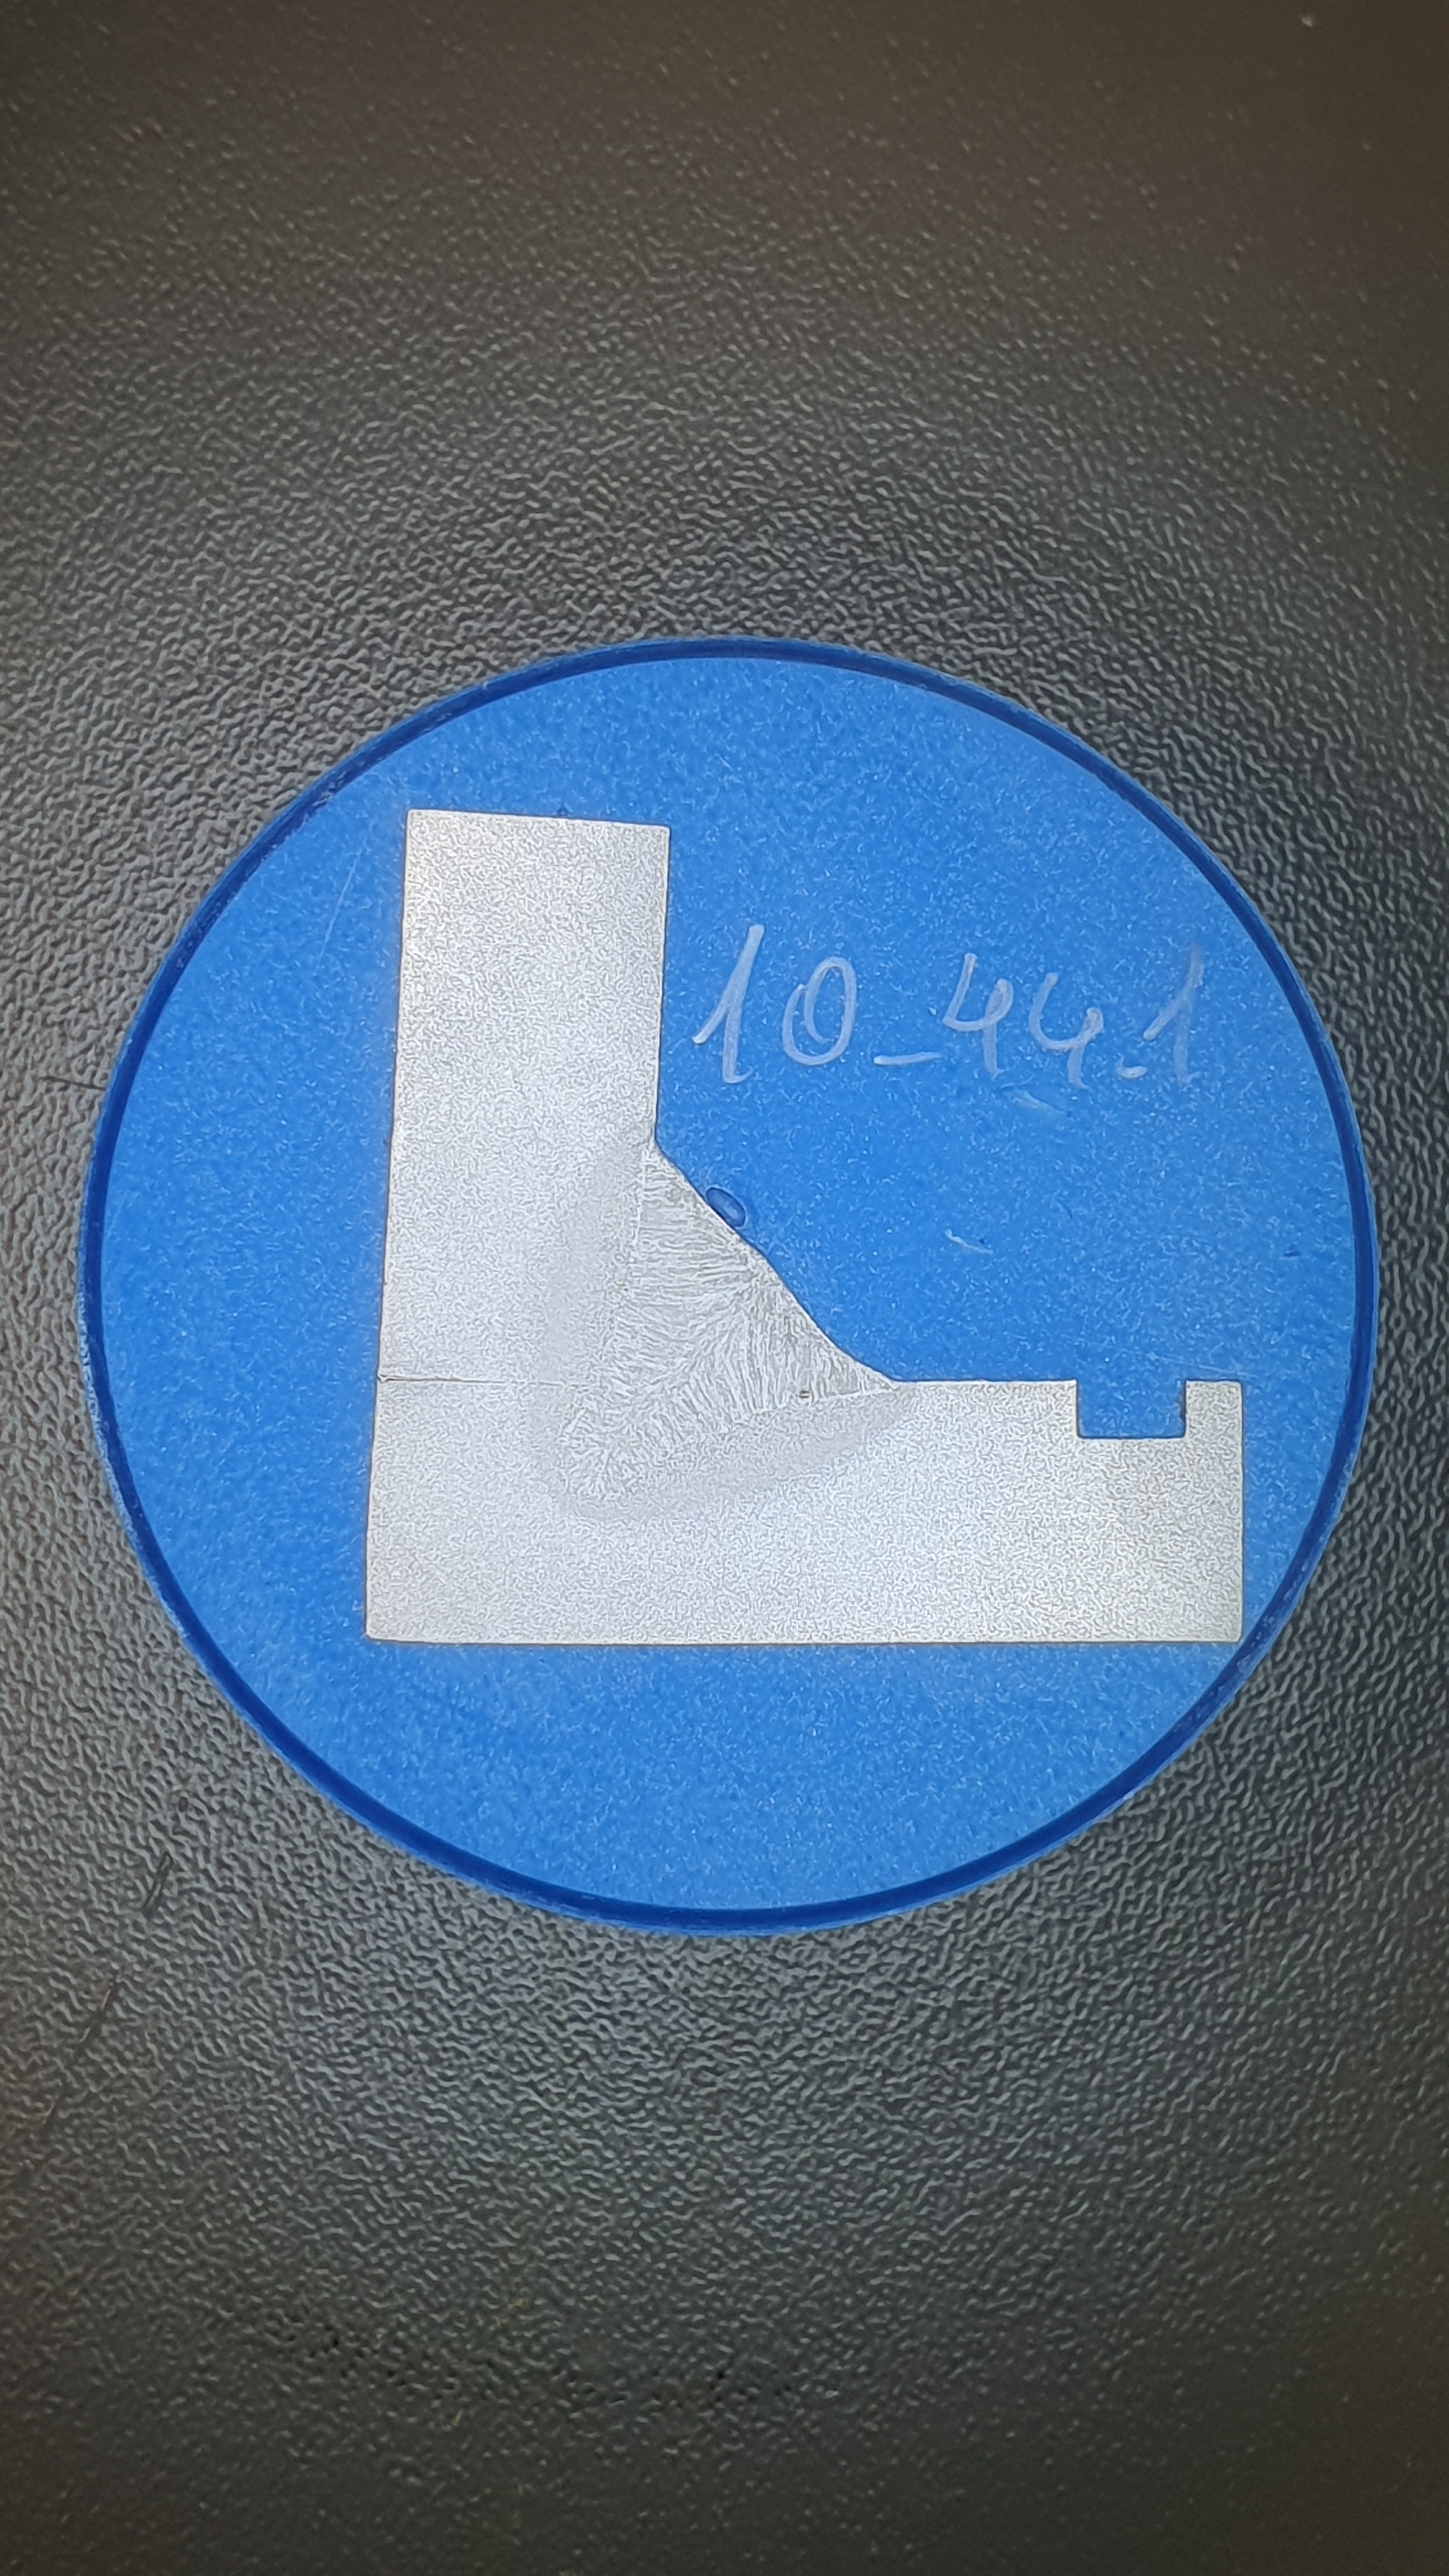Fusion: (555, 1141, 898, 1505)
Hintergrund: (100, 659, 1353, 1907)
Metall: (365, 808, 1244, 1646)
Nebenbereich: (510, 1110, 922, 1522)
